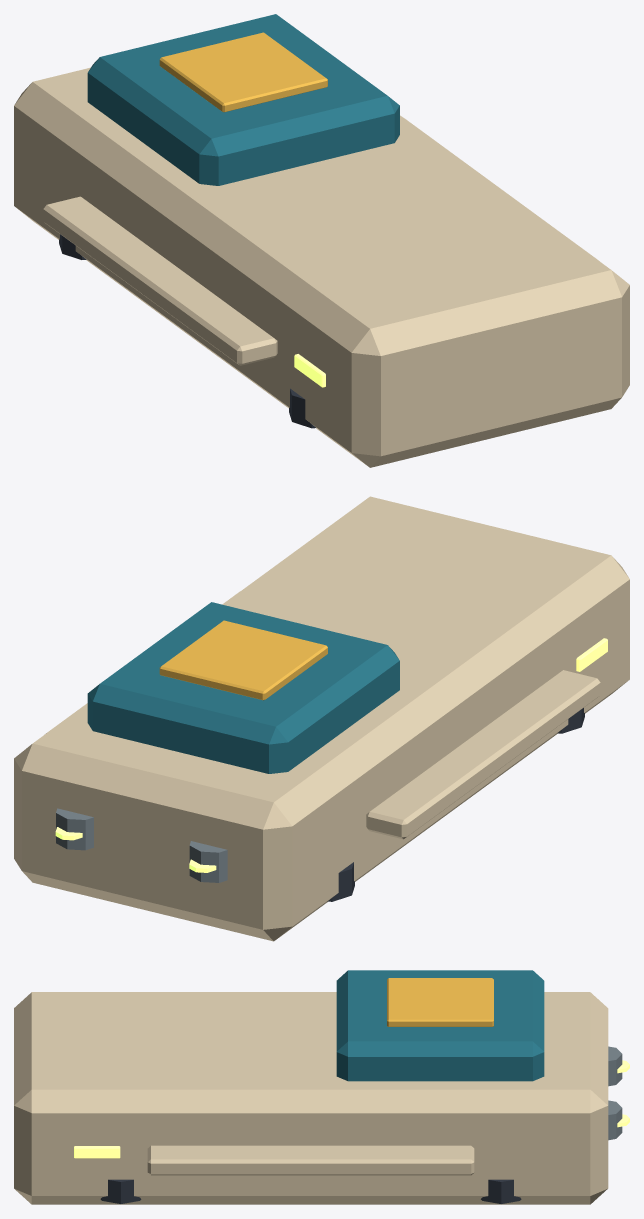
Rendered from vehicles_005_seed100.glb.
The picture shows the model from 3 angles, top to bottom: view 1: azimuth 30°, elevation 25°; view 2: azimuth 150°, elevation 25°; view 3: azimuth 270°, elevation 25°; orthographic projection. The views are drawn at different scales.
Parts seen in each view (by area): view 1: vehicles_005_seed100; view 2: vehicles_005_seed100; view 3: vehicles_005_seed100.
Part boxes in pixels (x1,y1,x2,y2): vehicles_005_seed100: (14,14,629,467); vehicles_005_seed100: (14,496,629,941); vehicles_005_seed100: (14,970,629,1204).
Size of the model in its own units: 3.13 by 1.56 by 5.55.
